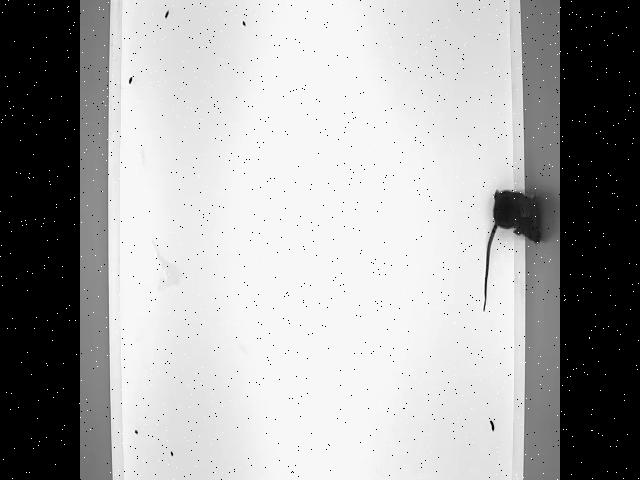Tikus: (478, 186, 544, 316)
